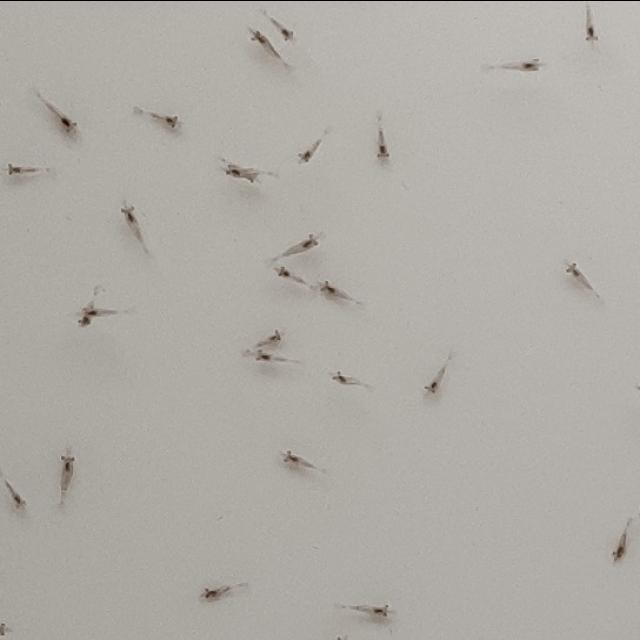shrimp-seed: (61, 114, 80, 134), (584, 24, 602, 44), (374, 141, 392, 161), (248, 25, 266, 45), (302, 232, 322, 250), (119, 202, 137, 222), (4, 160, 24, 178), (58, 453, 78, 471), (520, 56, 542, 72), (331, 368, 349, 386), (162, 112, 182, 128), (565, 258, 582, 276), (423, 378, 440, 396), (611, 543, 627, 562), (76, 312, 95, 328), (318, 278, 336, 294), (281, 448, 299, 464), (281, 26, 297, 42), (298, 148, 314, 164), (274, 264, 292, 278), (13, 492, 29, 507), (374, 602, 391, 616), (270, 328, 286, 342), (0, 620, 14, 636), (254, 348, 270, 361), (84, 304, 100, 316), (202, 586, 218, 598), (246, 171, 260, 184), (227, 165, 240, 178)
